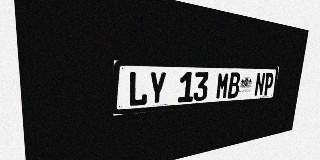1: (178, 72, 195, 103)
3: (193, 72, 209, 101)
B: (227, 72, 241, 99)
L: (128, 71, 148, 107)
M: (215, 72, 230, 100)
N: (254, 73, 266, 96)
P: (263, 73, 274, 96)
Y: (148, 72, 167, 105)
